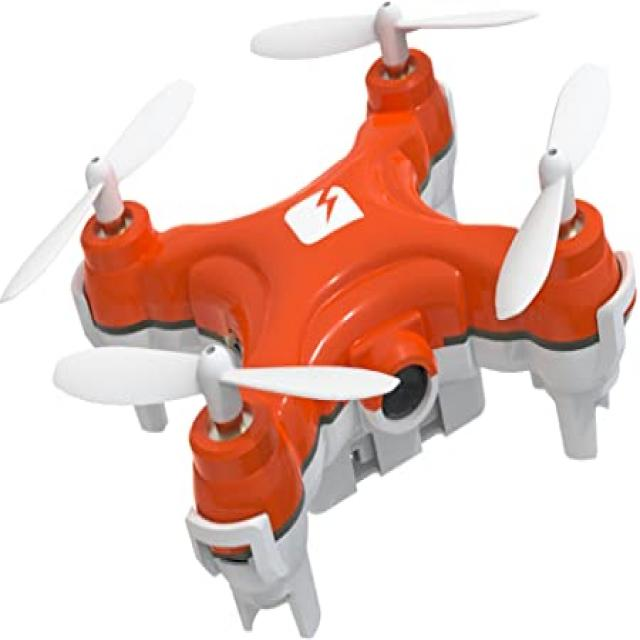drones: (0, 4, 640, 634)
